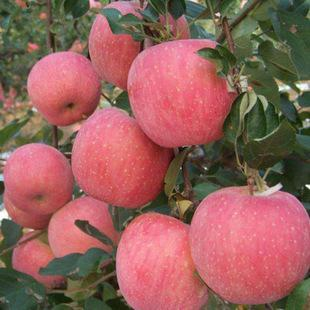apple: (128, 205, 263, 310), (189, 185, 308, 302), (131, 43, 237, 150), (70, 111, 172, 213), (115, 211, 206, 309), (25, 50, 100, 128), (2, 141, 72, 217), (49, 196, 116, 262), (12, 230, 55, 284)
